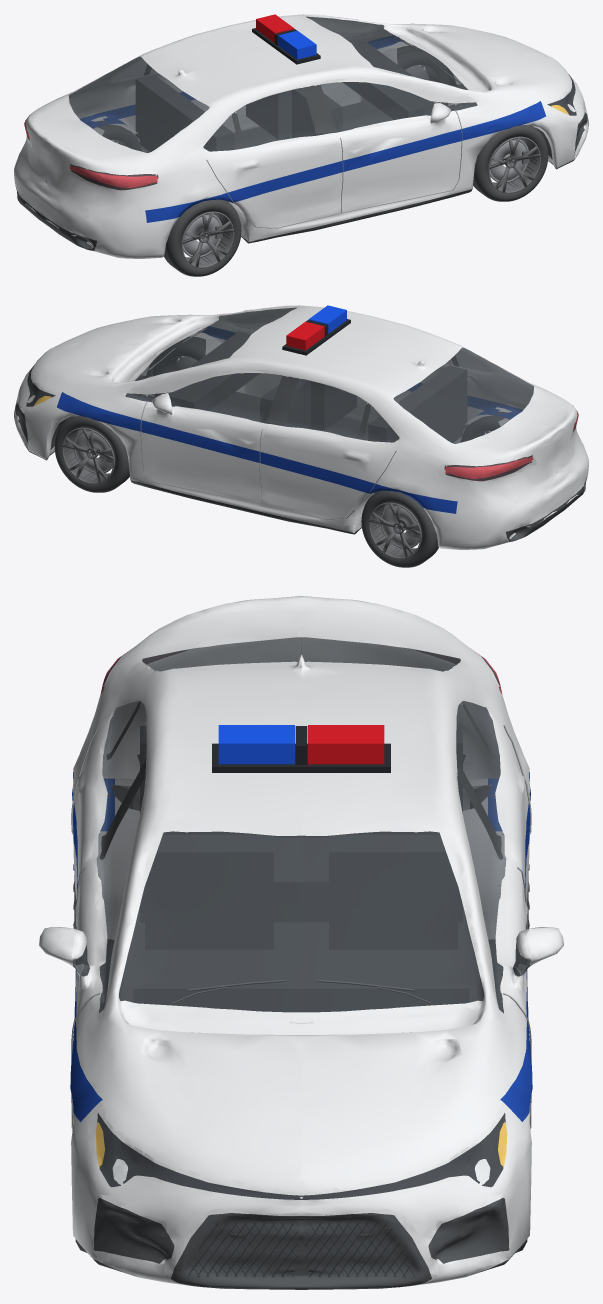
3 renders of one model, top to bottom at view 1: azimuth 30°, elevation 25°; view 2: azimuth 150°, elevation 25°; view 3: azimuth 270°, elevation 25°, orthographic. The views are drawn at different scales.
Parts seen in each view (by area): view 1: body_shell, side_windows, rear_window, police_blue_side_stripe, wheel_rear_right, wheel_front_right, windshield, interior_rear_back, interior_dashboard, lower_trim, interior_front_left_back, interior_floor (+10 smaller); view 2: body_shell, side_windows, rear_window, police_blue_side_stripe, wheel_rear_left, wheel_front_left, windshield, interior_rear_back, interior_dashboard, lower_trim, interior_front_right_back, interior_floor (+10 smaller); view 3: body_shell, windshield, lower_trim, interior_dashboard, side_windows, interior_front_left_back, interior_front_right_back, rear_window, headlight_housings, interior_rear_bench, police_blue_side_stripe, grille_fine_mesh (+8 smaller).
Boxes of the visible parts, x1,y1,x2,y2 form: body_shell: (14, 14, 588, 258); side_windows: (111, 30, 477, 151); rear_window: (69, 56, 209, 152); police_blue_side_stripe: (80, 35, 545, 222); wheel_rear_right: (164, 199, 241, 276); wheel_front_right: (473, 125, 548, 201); windshield: (306, 16, 467, 89); interior_rear_back: (136, 74, 234, 151); interior_dashboard: (343, 40, 447, 119); lower_trim: (15, 66, 588, 250); interior_front_left_back: (246, 90, 291, 139); interior_floor: (196, 101, 392, 235); body_shell: (14, 305, 588, 549); side_windows: (125, 321, 491, 442); rear_window: (393, 347, 533, 443); police_blue_side_stripe: (57, 326, 522, 513); wheel_rear_left: (361, 490, 438, 567); wheel_front_left: (54, 416, 129, 492); windshield: (135, 307, 296, 380); interior_rear_back: (368, 365, 466, 442); interior_dashboard: (155, 331, 259, 410); lower_trim: (14, 357, 587, 541); interior_front_right_back: (311, 381, 356, 430); interior_floor: (210, 392, 406, 526); body_shell: (71, 596, 531, 1289); windshield: (119, 831, 483, 1012); lower_trim: (81, 754, 521, 1289); interior_dashboard: (133, 950, 469, 1011); side_windows: (73, 701, 529, 1013); interior_front_left_back: (329, 835, 457, 949); interior_front_right_back: (145, 835, 273, 949); rear_window: (142, 637, 460, 671); headlight_housings: (97, 1113, 505, 1199); interior_rear_bench: (140, 838, 462, 921); police_blue_side_stripe: (70, 772, 532, 1121); grille_fine_mesh: (187, 1222, 415, 1277).
Size of the model in its own units: 4.59 by 1.45 by 2.
